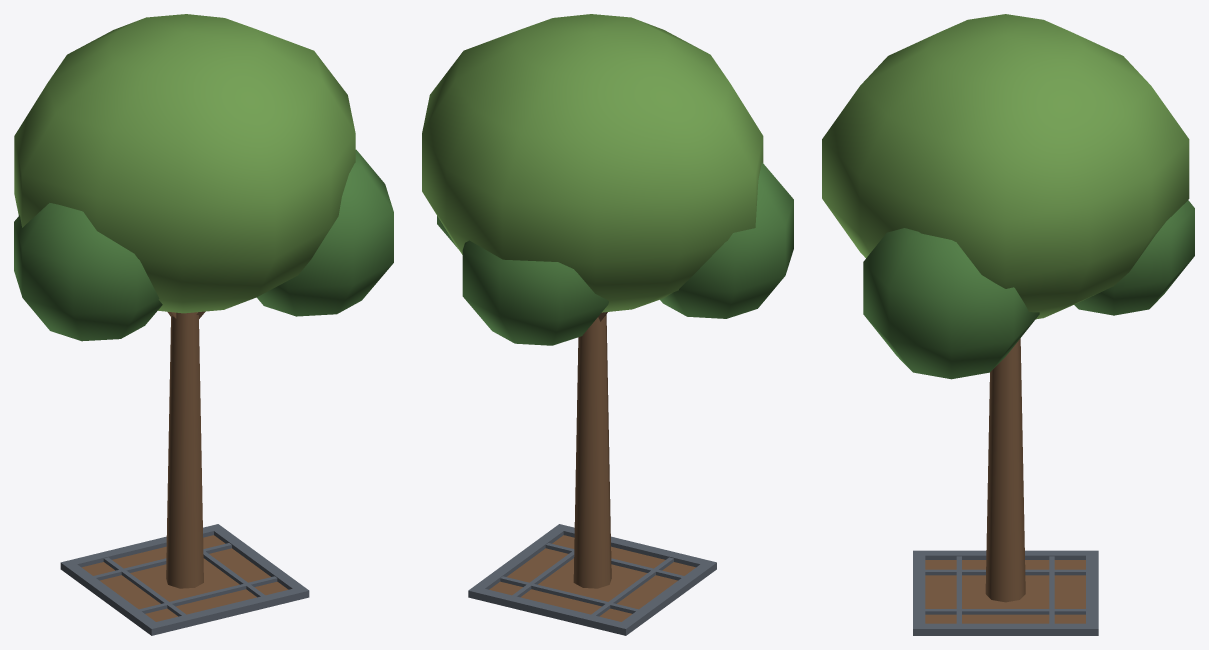
The model's file is tree_street.glb.
3 views of the same model, side by side, from view 1: azimuth 30°, elevation 25°; view 2: azimuth 150°, elevation 25°; view 3: azimuth 270°, elevation 25° (orthographic).
Parts seen in each view (by area): view 1: tree_street; view 2: tree_street; view 3: tree_street.
Part boxes in pixels (bbox=[...]): tree_street: bbox=[14, 14, 393, 635]; tree_street: bbox=[422, 14, 793, 635]; tree_street: bbox=[822, 14, 1194, 635].
Bounding box in the file's own units: 2.67 × 4 × 2.41.
